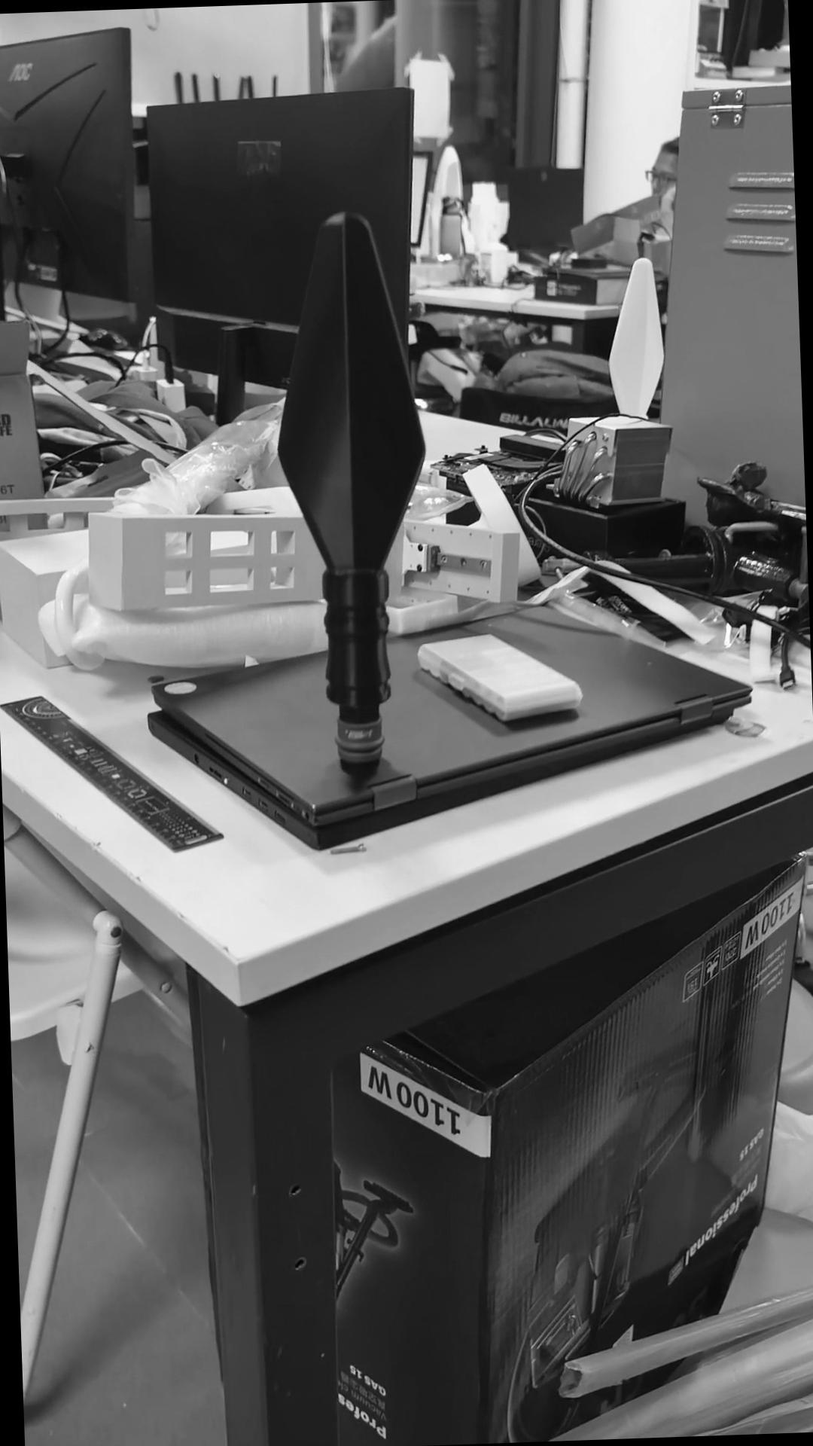base: (335, 720, 385, 774)
